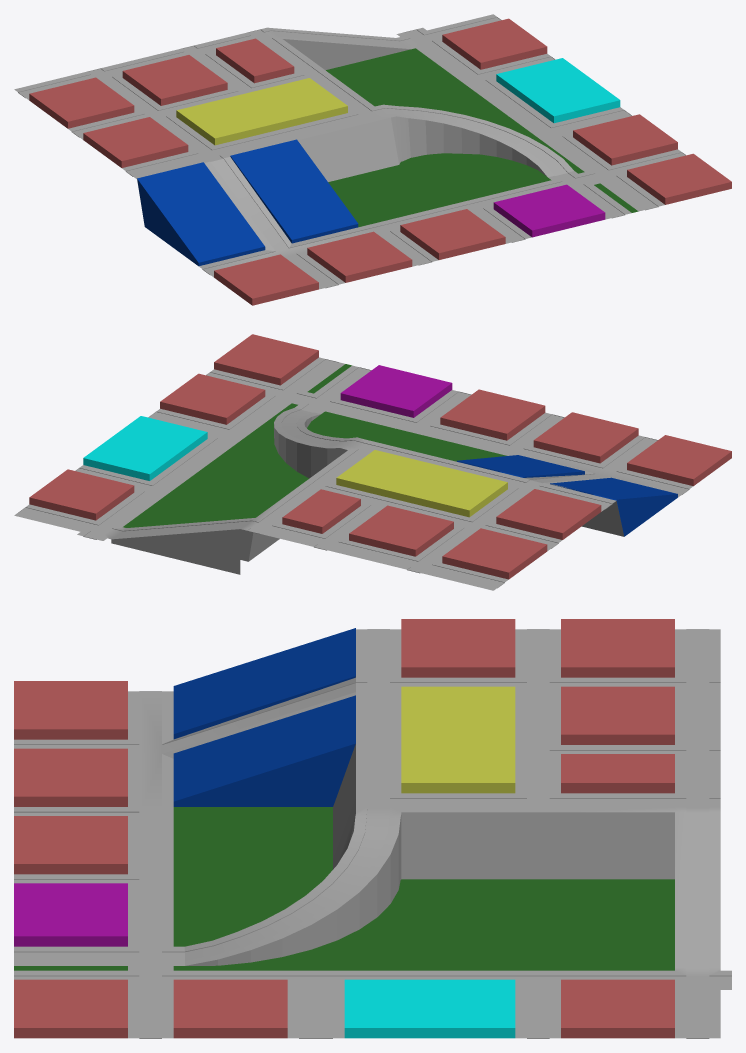
File: Prototipo Fase 3D T1.fbx
The picture shows the model from 3 angles, top to bottom: view 1: azimuth 30°, elevation 25°; view 2: azimuth 150°, elevation 25°; view 3: azimuth 270°, elevation 25°; orthographic projection. The views are drawn at different scales.
Visible parts, largest first — view 1: Ruas, Terreno_baldio1, Quadra_25x35_1, Quadra_25x35_2, Jardin_Entre_Ruas1, Quadra_50x25_1, Quadra_40x25_1, Quadra_25x30_1, Quadra_25x25_9, Quadra_25x25_10, Quadra_25x25_3, Quadra_25x25_7 (+6 smaller); view 2: Ruas, Jardin_Entre_Ruas1, Quadra_50x25_1, Quadra_40x25_1, Quadra_25x30_1, Terreno_baldio1, Quadra_25x25_3, Quadra_25x25_6, Quadra_25x25_9, Quadra_25x25_2, Quadra_25x25_10, Quadra_25x25_4 (+6 smaller); view 3: Ruas, Jardin_Entre_Ruas1, Terreno_baldio1, Quadra_25x35_2, Quadra_50x25_1, Quadra_40x25_1, Quadra_25x35_1, Quadra_25x30_1, Quadra_25x25_6, Quadra_25x25_5, Quadra_25x25_10, Quadra_25x25_4 (+6 smaller).
Boxes of the visible parts, bbox=[...] form: Ruas: bbox=[14, 14, 685, 289]; Terreno_baldio1: bbox=[328, 153, 551, 227]; Quadra_25x35_1: bbox=[137, 162, 265, 266]; Quadra_25x35_2: bbox=[230, 139, 358, 243]; Jardin_Entre_Ruas1: bbox=[326, 48, 584, 173]; Quadra_50x25_1: bbox=[176, 78, 347, 145]; Quadra_40x25_1: bbox=[496, 58, 620, 123]; Quadra_25x30_1: bbox=[493, 184, 605, 237]; Quadra_25x25_9: bbox=[29, 77, 134, 128]; Quadra_25x25_10: bbox=[442, 18, 547, 69]; Quadra_25x25_3: bbox=[400, 209, 505, 259]; Quadra_25x25_7: bbox=[122, 55, 227, 105]; Ruas: bbox=[14, 357, 692, 590]; Jardin_Entre_Ruas1: bbox=[123, 403, 308, 527]; Quadra_50x25_1: bbox=[336, 450, 507, 517]; Quadra_40x25_1: bbox=[83, 416, 207, 480]; Quadra_25x30_1: bbox=[340, 365, 452, 417]; Terreno_baldio1: bbox=[307, 411, 506, 461]; Quadra_25x25_3: bbox=[440, 389, 545, 440]; Quadra_25x25_6: bbox=[160, 373, 265, 424]; Quadra_25x25_9: bbox=[442, 528, 547, 579]; Quadra_25x25_2: bbox=[533, 412, 638, 463]; Quadra_25x25_10: bbox=[29, 469, 134, 520]; Quadra_25x25_4: bbox=[496, 489, 601, 539]; Ruas: bbox=[14, 629, 731, 1038]; Jardin_Entre_Ruas1: bbox=[173, 879, 674, 970]; Terreno_baldio1: bbox=[173, 807, 332, 946]; Quadra_25x35_2: bbox=[173, 695, 355, 806]; Quadra_50x25_1: bbox=[401, 686, 515, 793]; Quadra_40x25_1: bbox=[344, 979, 515, 1038]; Quadra_25x35_1: bbox=[173, 628, 355, 739]; Quadra_25x30_1: bbox=[14, 883, 127, 946]; Quadra_25x25_6: bbox=[173, 979, 287, 1038]; Quadra_25x25_5: bbox=[14, 979, 127, 1038]; Quadra_25x25_10: bbox=[561, 979, 674, 1038]; Quadra_25x25_4: bbox=[401, 619, 515, 677].
Size of the model in its own units: 18000 by 1893 by 15750.
